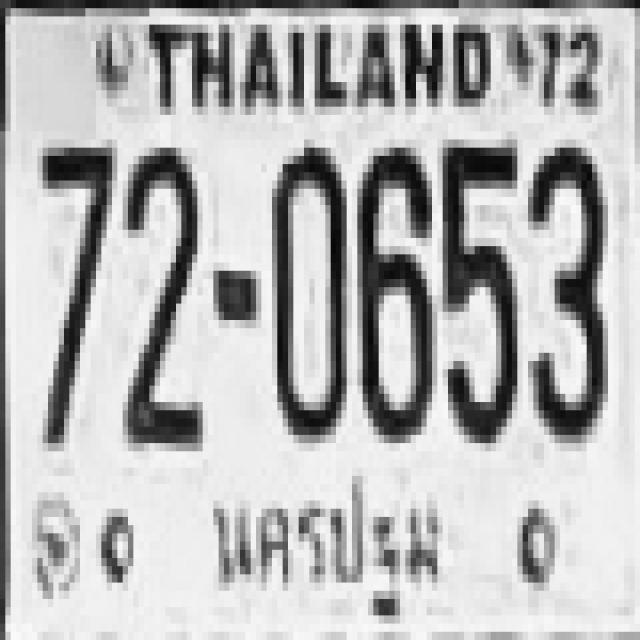0: (269, 139, 344, 435)
2: (123, 140, 197, 443)
3: (525, 139, 600, 435)
5: (440, 139, 515, 435)
6: (352, 139, 427, 435)
7: (37, 140, 112, 443)
NakhonPathom: (203, 466, 444, 620)
